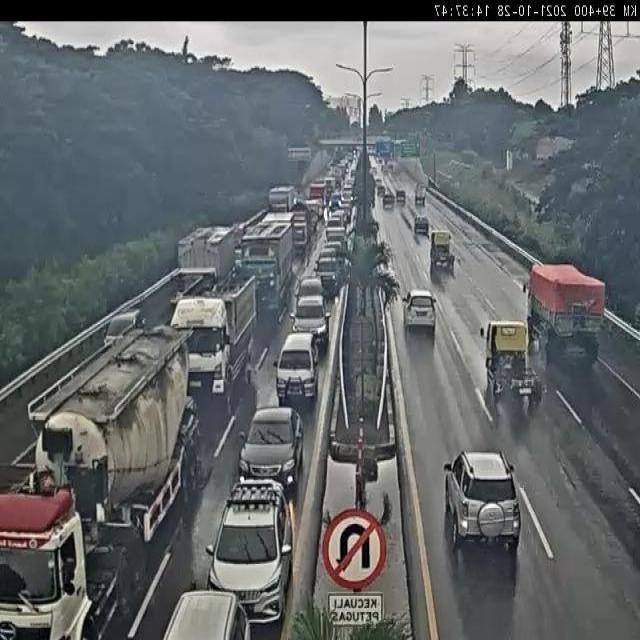Car: (199, 481, 289, 611), (435, 448, 529, 553), (236, 401, 308, 485), (275, 329, 324, 407), (292, 302, 330, 352), (402, 290, 437, 339), (414, 213, 428, 234), (383, 193, 396, 209)
Truck: (0, 326, 188, 640), (170, 275, 256, 384), (530, 264, 607, 367), (482, 319, 556, 409), (238, 216, 296, 309), (179, 225, 239, 289), (424, 227, 458, 272), (412, 180, 430, 205)
